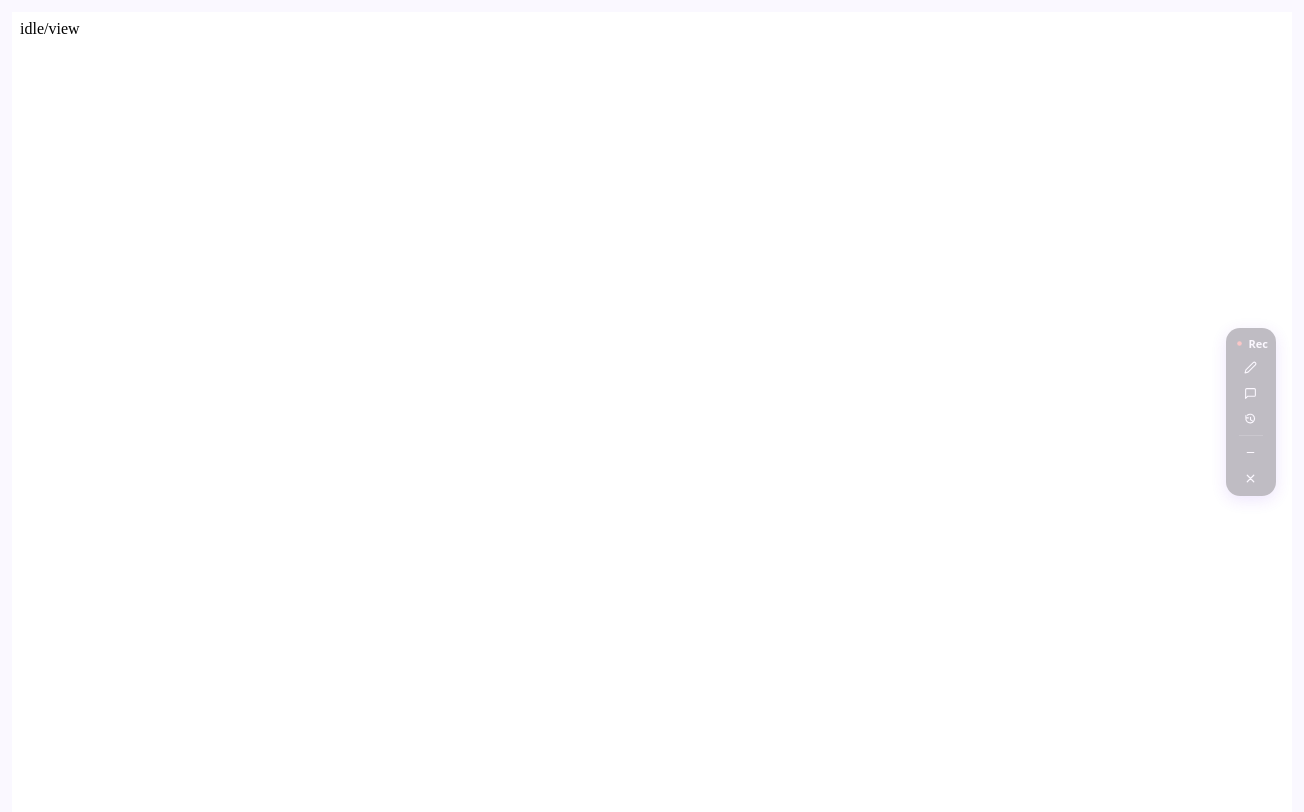
Test: edit mode — separated from recording › hides the Rec button while editing and shows Save/Cancel instead
This screenshot has width=1304, height=812.
Expected: the button titled "Start recording (double-tap Space)" is shown, [1231,335,1271,352]
What coordinates should you click on to do the following:
click the button named "Edit"
I would click on:
 (1251, 367)
Its box is [1240,356,1262,378].
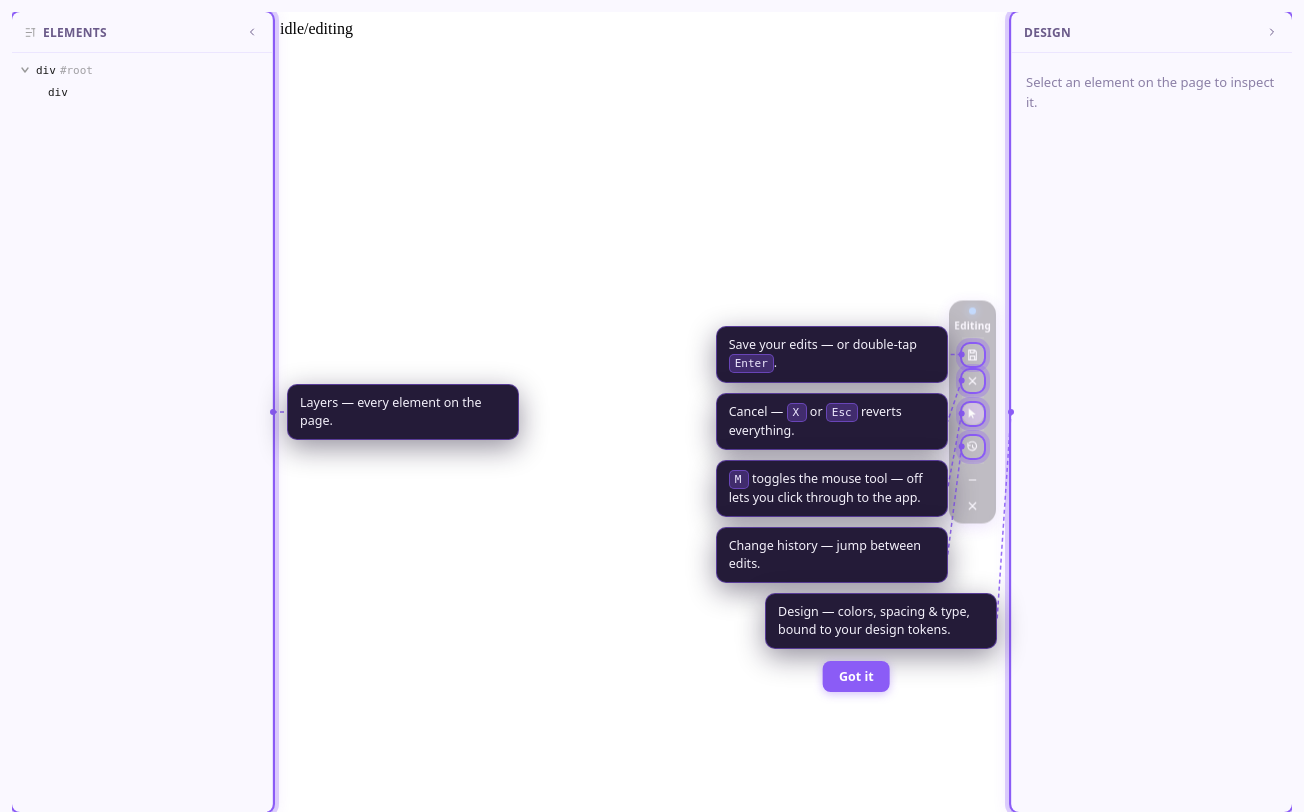
Result: the text with test id "probe" reads "idle/editing" at [280,20,353,37]
Result: the button named "Save" is shown at [962,344,984,366]
Result: the button named "Cancel" is shown at [962,370,984,392]
